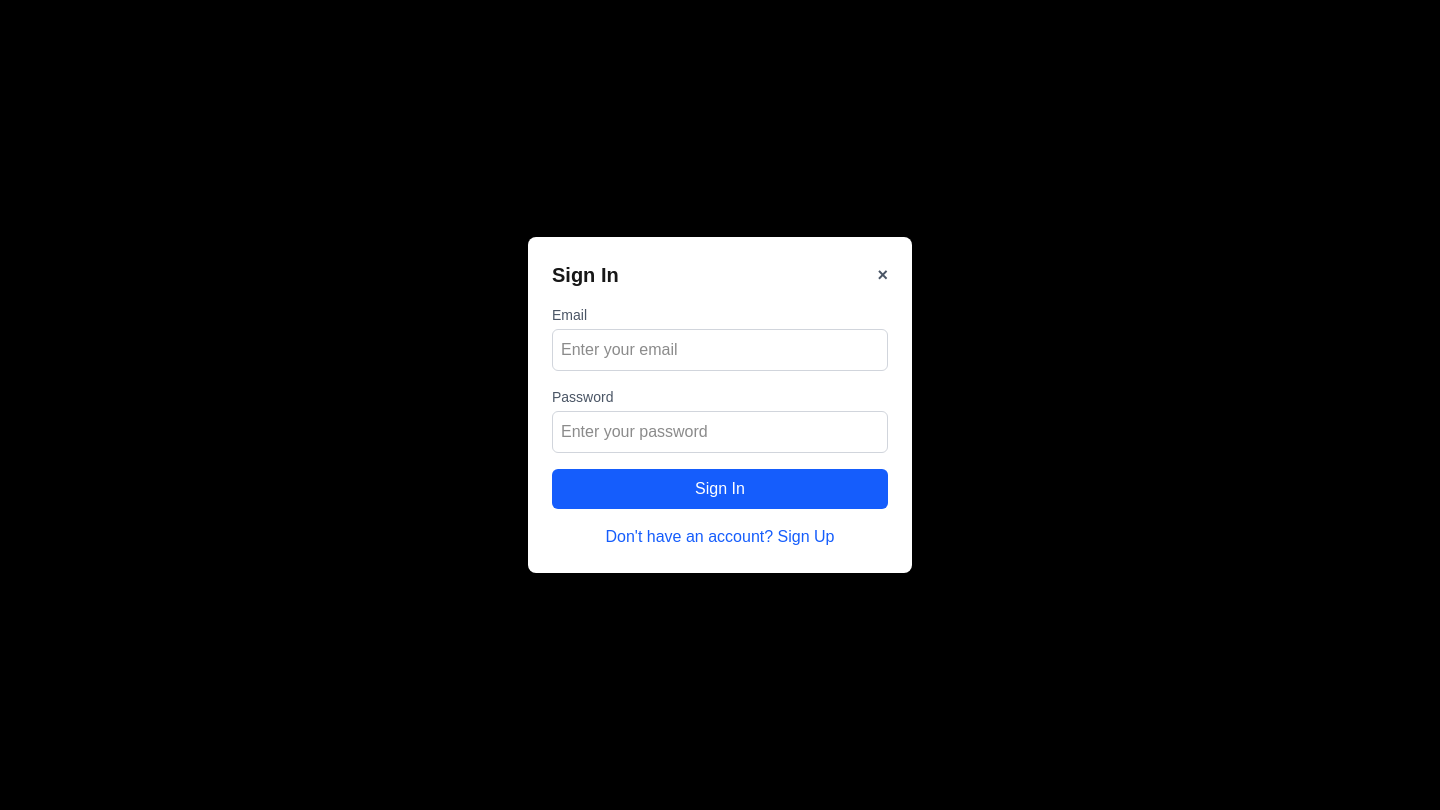
it: Modal Component › toggles to sign up form
This screenshot has width=1440, height=810.
Click the button "Don't have an account? Sign Up" at (720, 537), box [606,525,834,549]
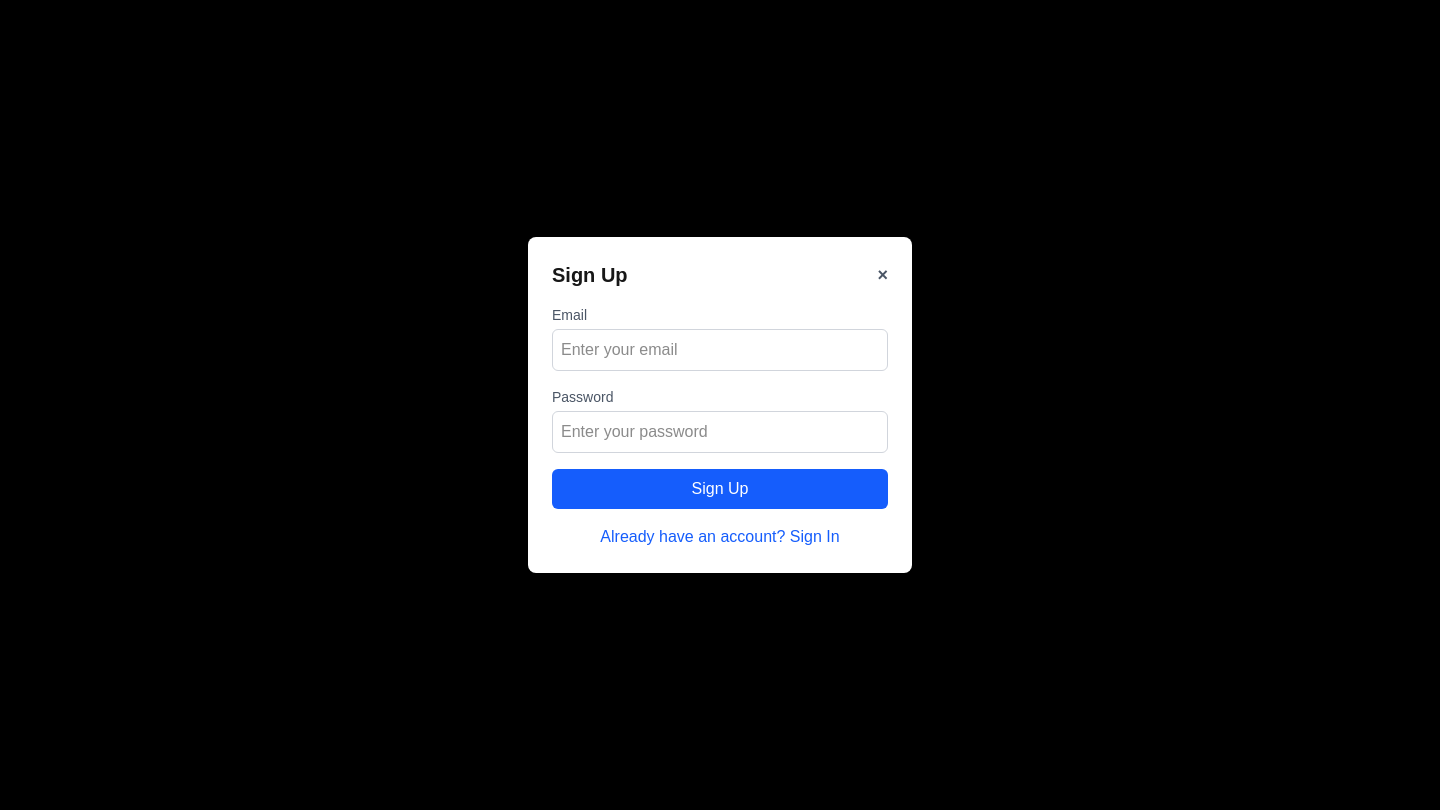
Expected: the heading "Sign Up" is shown, [552,261,628,289]
